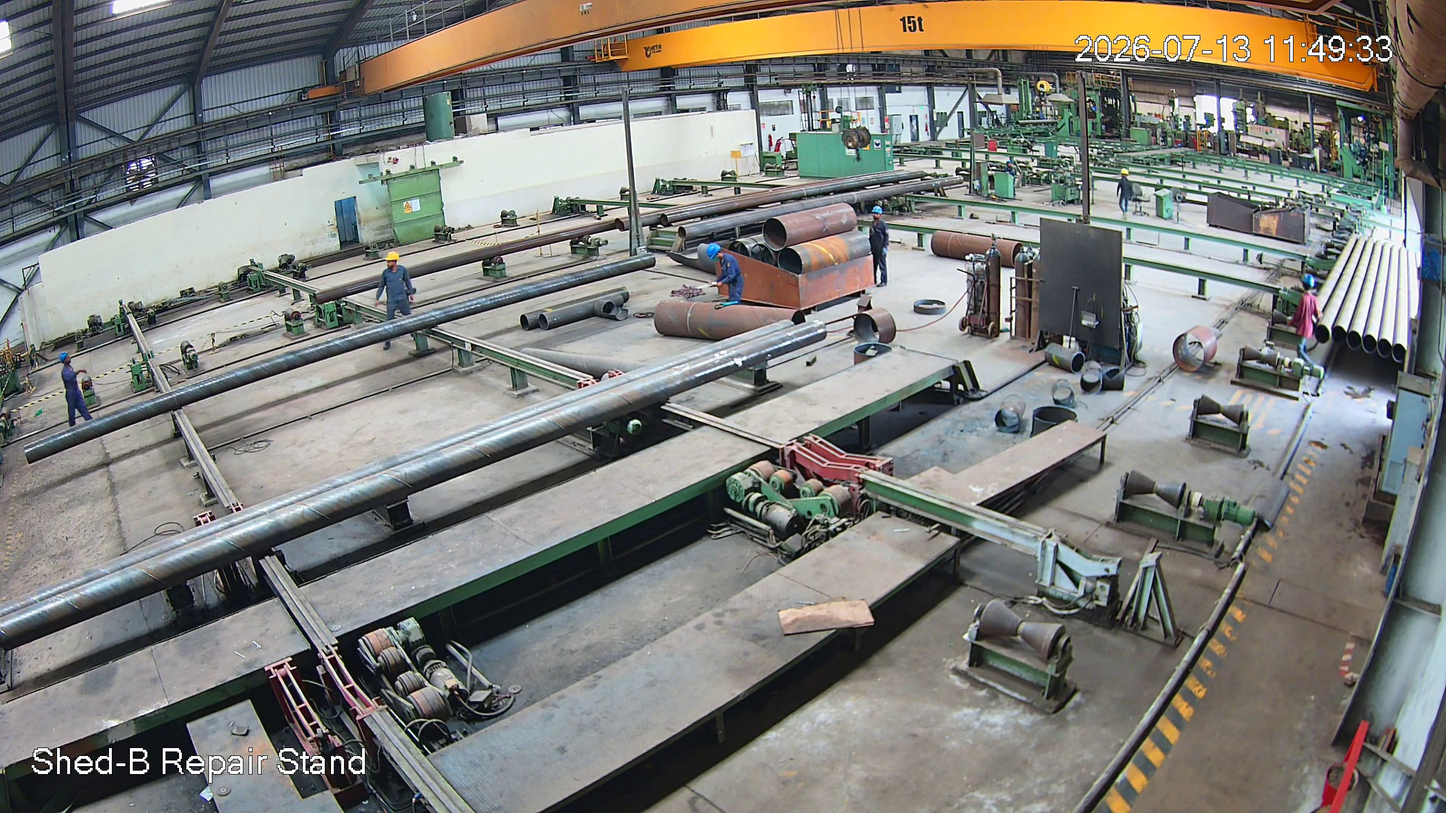Helmet: (1297, 275, 1322, 295), (705, 240, 722, 267), (383, 250, 403, 272), (58, 351, 75, 369), (870, 205, 885, 221)
Person: (380, 253, 412, 340), (56, 353, 92, 430), (1293, 276, 1322, 365), (705, 244, 742, 312), (867, 206, 891, 285)
